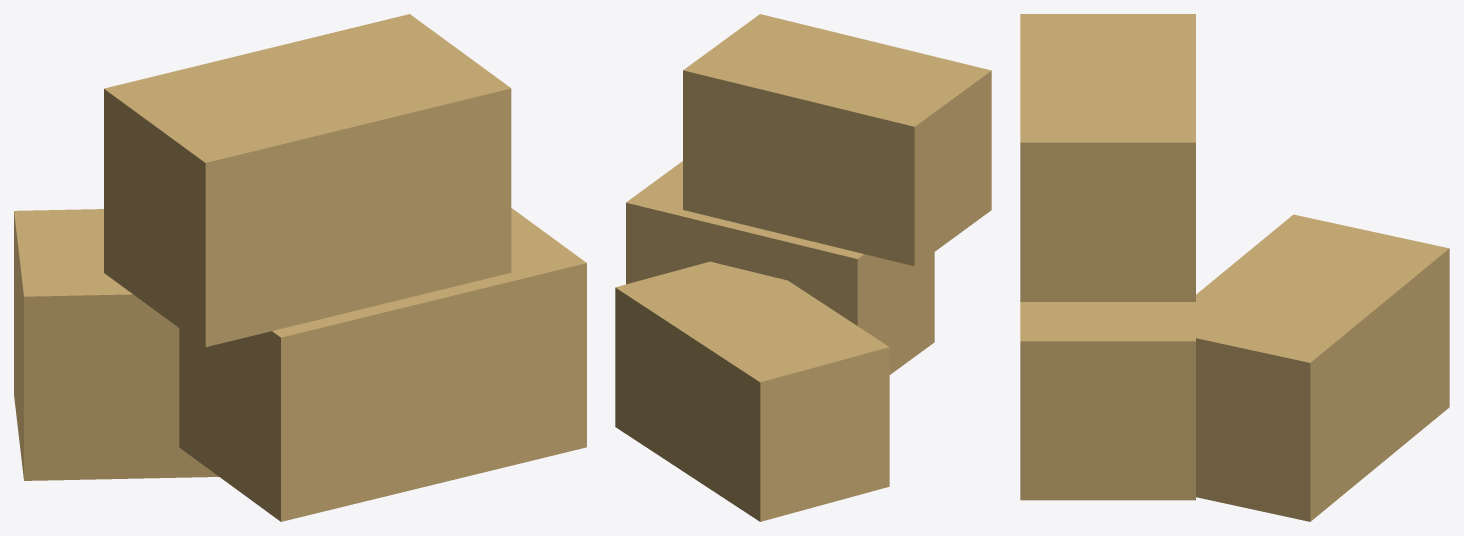
File: obstacle 1.fbx
The picture shows the model from 3 angles, left to right: view 1: azimuth 30°, elevation 25°; view 2: azimuth 150°, elevation 25°; view 3: azimuth 270°, elevation 25°; orthographic projection. The views are drawn at different scales.
Visible parts, largest first — view 1: pCube17, pCube16, pCube18; view 2: pCube17, pCube18, pCube16; view 3: pCube18, pCube17, pCube16.
Boxes of the visible parts, x1,y1,x2,y2 form: pCube17: (104,14,511,347); pCube16: (179,208,586,521); pCube18: (14,209,218,480); pCube17: (683,14,991,266); pCube18: (615,261,889,521); pCube16: (626,161,934,374); pCube18: (1196,214,1449,521); pCube17: (1020,14,1195,301); pCube16: (1020,302,1195,500).
Size of the model in its own units: 2.3 by 2.32 by 2.45.
